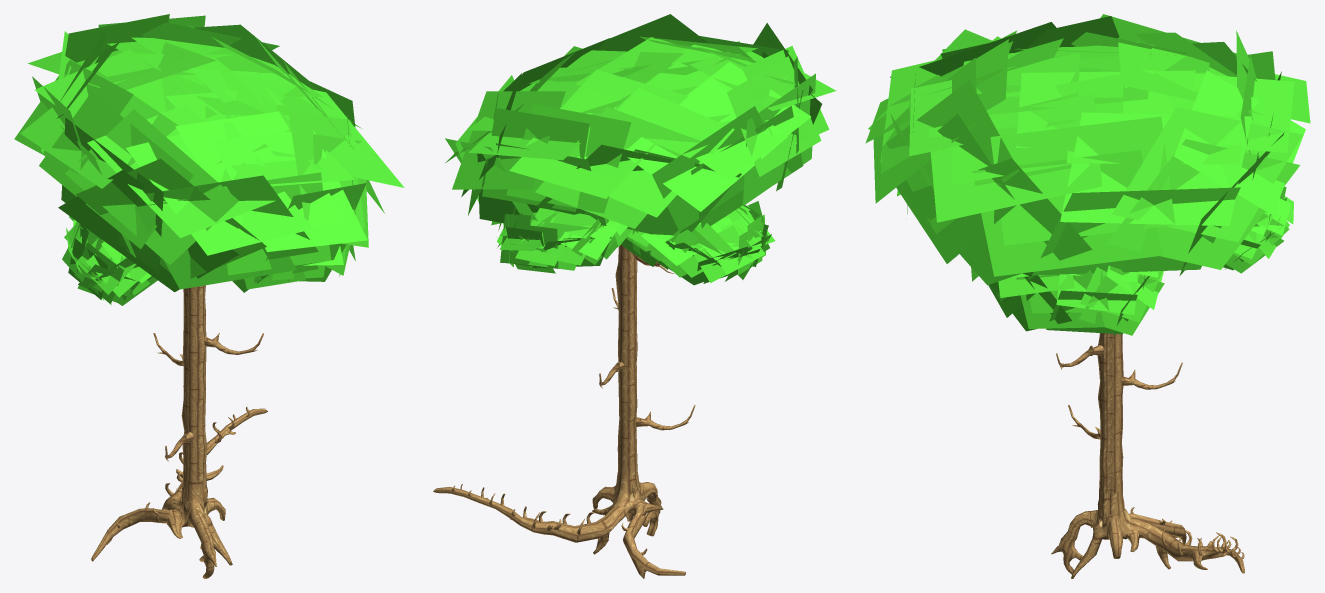
Rendered from arvore_alden_ring.fbx.
3 views of the same model, side by side, from view 1: azimuth 30°, elevation 25°; view 2: azimuth 150°, elevation 25°; view 3: azimuth 270°, elevation 25° (orthographic). The views are drawn at different scales.
Parts seen in each view (by area): view 1: Leaves, Roots, Trunk, Branch; view 2: Leaves, Roots, Trunk, Branch; view 3: Leaves, Roots, Trunk, Branch.
Boxes of the visible parts, <box> form: Leaves: <box>14,14,404,305</box>; Roots: <box>91,406,267,578</box>; Trunk: <box>181,285,207,480</box>; Branch: <box>153,333,263,461</box>; Leaves: <box>445,14,836,285</box>; Roots: <box>433,464,685,578</box>; Trunk: <box>615,245,637,468</box>; Branch: <box>599,252,695,430</box>; Leaves: <box>865,14,1310,336</box>; Roots: <box>1051,489,1244,578</box>; Trunk: <box>1097,333,1123,493</box>; Branch: <box>1056,345,1182,439</box>.
Size of the model in its own units: 1303 by 1695 by 1048.
